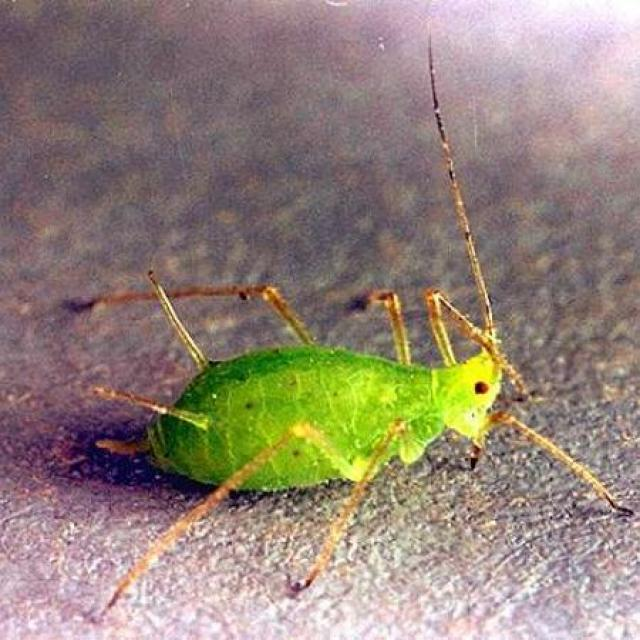Aphid-Grown-: (62, 244, 598, 586)
